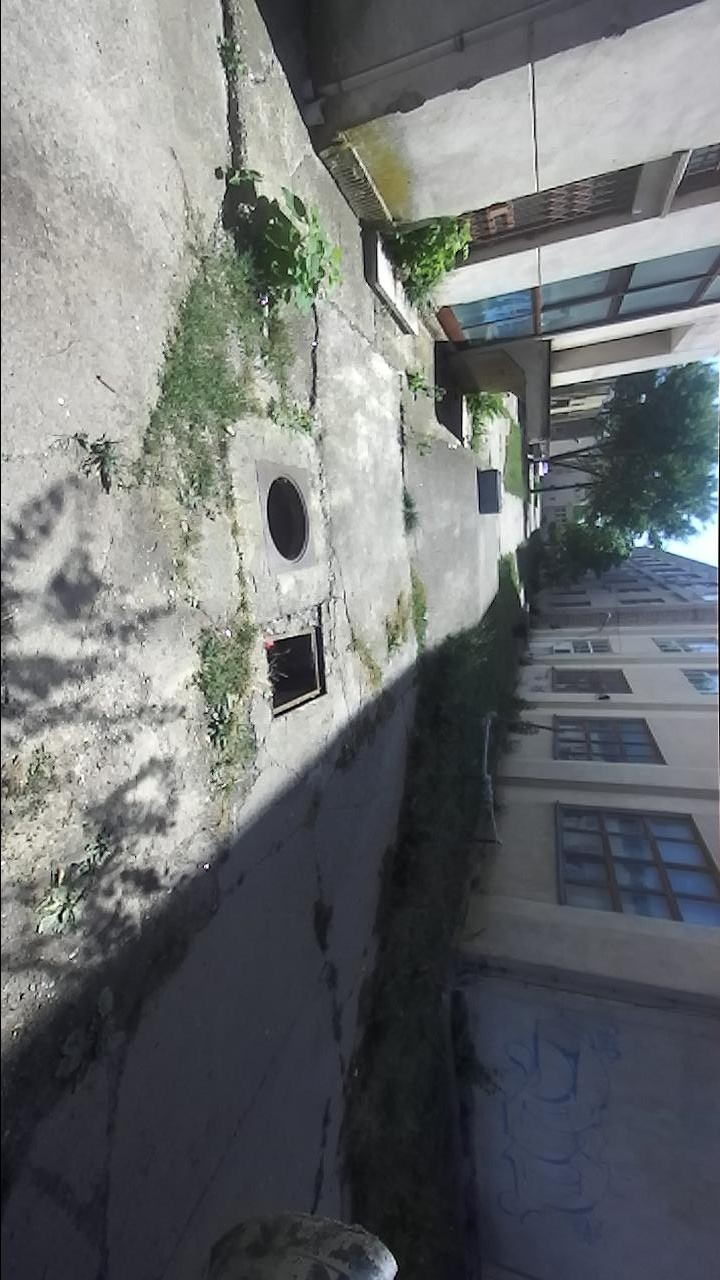drain: (263, 623, 333, 725), (263, 467, 313, 572)
